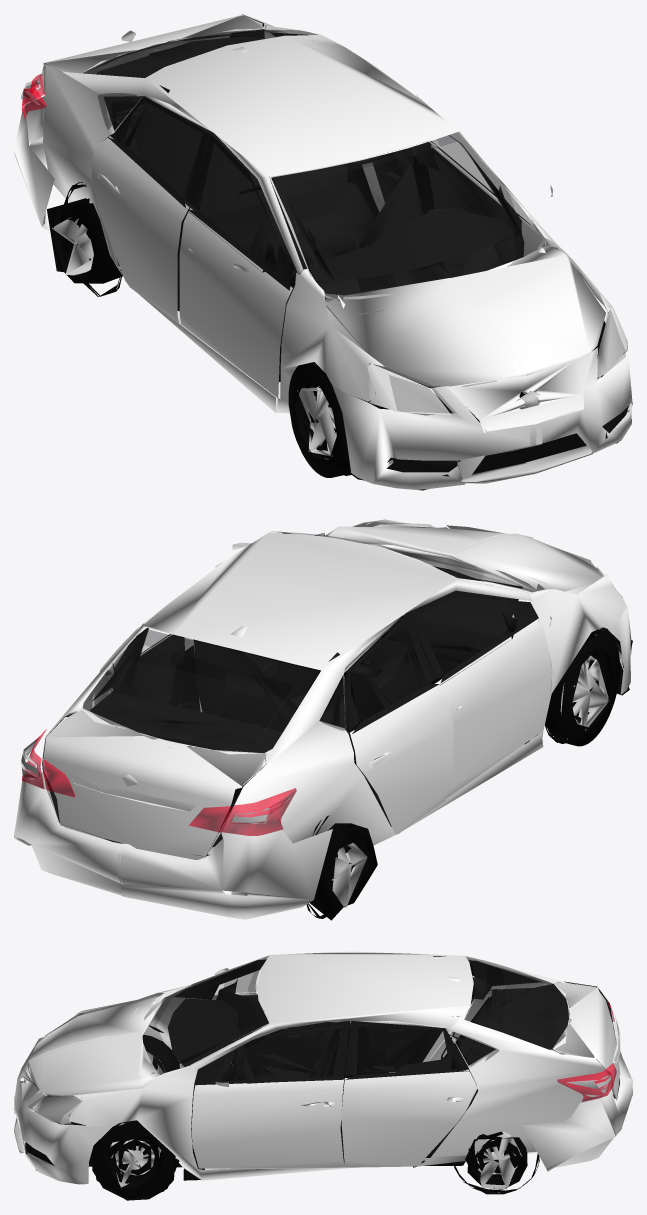
File: sedan_sylphy_lod3.glb
The picture shows the model from 3 angles, top to bottom: view 1: azimuth 30°, elevation 25°; view 2: azimuth 150°, elevation 25°; view 3: azimuth 270°, elevation 25°; orthographic projection. The views are drawn at different scales.
Visible parts, largest first — view 1: mmGroup5_wire_008008136 #3_0, mmGroup7_wire_143224087 #13_0, mmGroup90_wire_006134006 #10_0, mmGroup8_wire_028089177 #1_0, mmGroup1_wire_008008136 #2_0, object 6, mmGroup3_wire_087224198 #18_0, mmGroup85_wire_028089177 #14_0; view 2: mmGroup5_wire_008008136 #3_0, mmGroup7_wire_143224087 #13_0, mmGroup90_wire_006134006 #10_0, mmGroup8_wire_028089177 #1_0, object 6, mmGroup85_wire_028089177 #14_0, mmGroup1_wire_008008136 #2_0; view 3: mmGroup5_wire_008008136 #3_0, mmGroup90_wire_006134006 #10_0, mmGroup7_wire_143224087 #13_0, mmGroup8_wire_028089177 #1_0, object 6, mmGroup1_wire_008008136 #2_0, mmGroup85_wire_028089177 #14_0.
Boxes of the visible parts, box(x1,y1,x2,y2) form: mmGroup5_wire_008008136 #3_0: box(14, 14, 632, 490); mmGroup7_wire_143224087 #13_0: box(44, 14, 629, 476); mmGroup90_wire_006134006 #10_0: box(83, 30, 625, 412); mmGroup8_wire_028089177 #1_0: box(47, 134, 618, 490); mmGroup1_wire_008008136 #2_0: box(121, 30, 626, 432); object 6: box(20, 15, 540, 456); mmGroup3_wire_087224198 #18_0: box(458, 445, 593, 483); mmGroup85_wire_028089177 #14_0: box(21, 73, 46, 120); mmGroup5_wire_008008136 #3_0: box(14, 520, 631, 919); mmGroup7_wire_143224087 #13_0: box(42, 532, 632, 856); mmGroup90_wire_006134006 #10_0: box(83, 522, 598, 752); mmGroup8_wire_028089177 #1_0: box(170, 624, 629, 920); object 6: box(20, 655, 609, 907); mmGroup85_wire_028089177 #14_0: box(22, 729, 296, 835); mmGroup1_wire_008008136 #2_0: box(17, 519, 622, 845); mmGroup5_wire_008008136 #3_0: box(14, 951, 632, 1184); mmGroup90_wire_006134006 #10_0: box(28, 956, 569, 1124); mmGroup7_wire_143224087 #13_0: box(25, 956, 619, 1165); mmGroup8_wire_028089177 #1_0: box(35, 996, 539, 1200); object 6: box(23, 982, 616, 1189); mmGroup1_wire_008008136 #2_0: box(15, 1012, 620, 1123); mmGroup85_wire_028089177 #14_0: box(557, 1002, 616, 1101).
Size of the model in its own units: 2.02 by 1.44 by 4.59.
